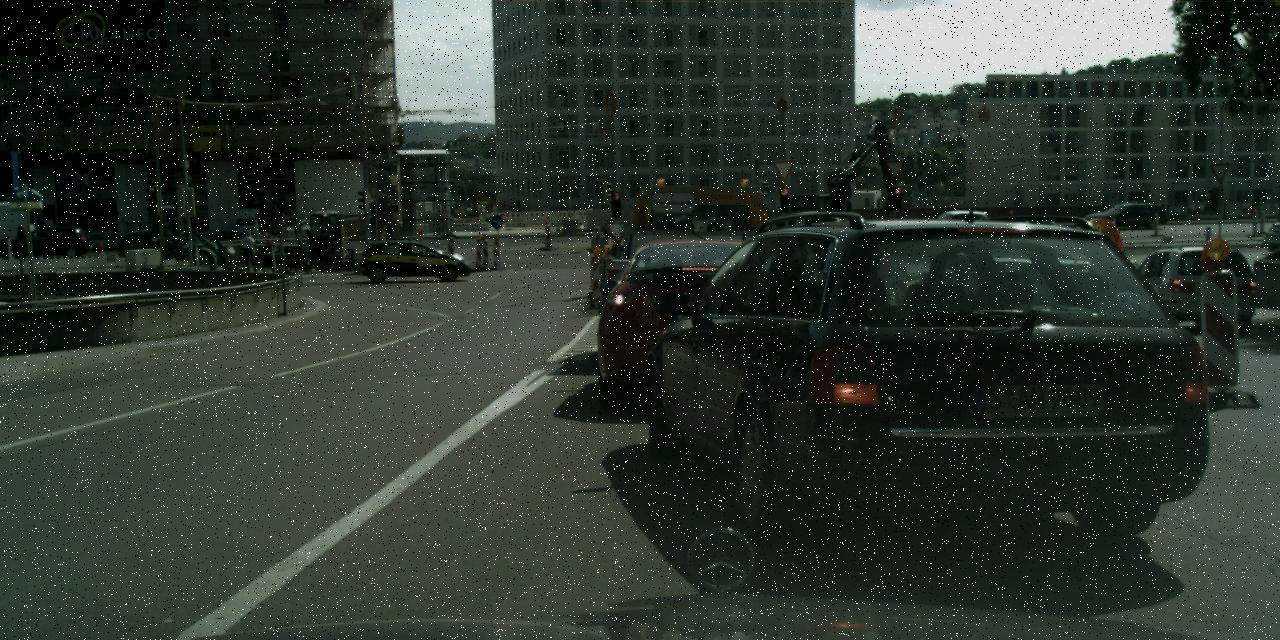ped: (240, 230, 258, 276)
